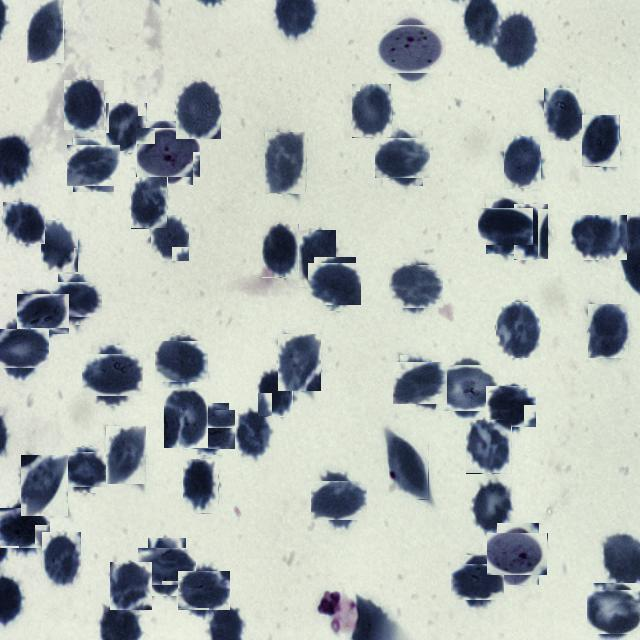red blood cell: (440, 360, 495, 416), (21, 455, 68, 516), (86, 349, 138, 402), (176, 81, 221, 139), (264, 132, 306, 194), (570, 215, 627, 260), (164, 390, 208, 448), (389, 437, 429, 500), (590, 587, 640, 637), (466, 420, 512, 474), (496, 302, 540, 358), (278, 334, 321, 391), (392, 262, 441, 312), (494, 14, 538, 68), (396, 358, 444, 407), (27, 0, 64, 63), (106, 426, 146, 484), (471, 480, 513, 535), (315, 477, 363, 525), (379, 134, 427, 182), (143, 542, 191, 590), (0, 504, 48, 552), (70, 141, 118, 189), (311, 260, 359, 308), (157, 338, 205, 385), (0, 325, 45, 374), (42, 532, 81, 588), (20, 290, 66, 337), (482, 203, 528, 250), (352, 84, 392, 138), (588, 304, 628, 358), (544, 86, 584, 140), (181, 568, 227, 614), (488, 384, 534, 430), (299, 230, 336, 287), (187, 406, 232, 452), (106, 102, 147, 152), (110, 562, 152, 610), (41, 220, 79, 273), (64, 80, 104, 130), (262, 224, 299, 278), (183, 459, 219, 514), (582, 115, 620, 167), (504, 136, 541, 189), (514, 204, 549, 260), (456, 560, 500, 604), (131, 177, 168, 229), (54, 278, 98, 321), (151, 215, 190, 262), (234, 409, 271, 457), (3, 202, 45, 244), (258, 368, 293, 417), (66, 450, 106, 490)
ring: (382, 20, 442, 78), (140, 124, 197, 181), (492, 528, 544, 580)
